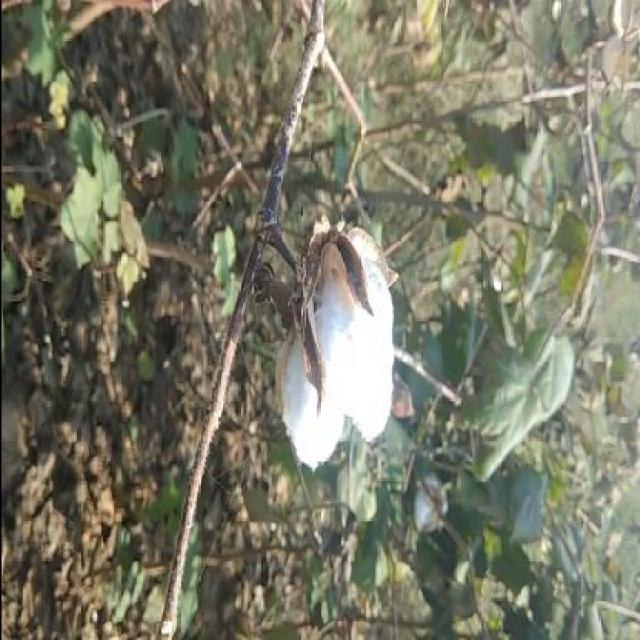cotton_ready: (220, 223, 406, 472)
